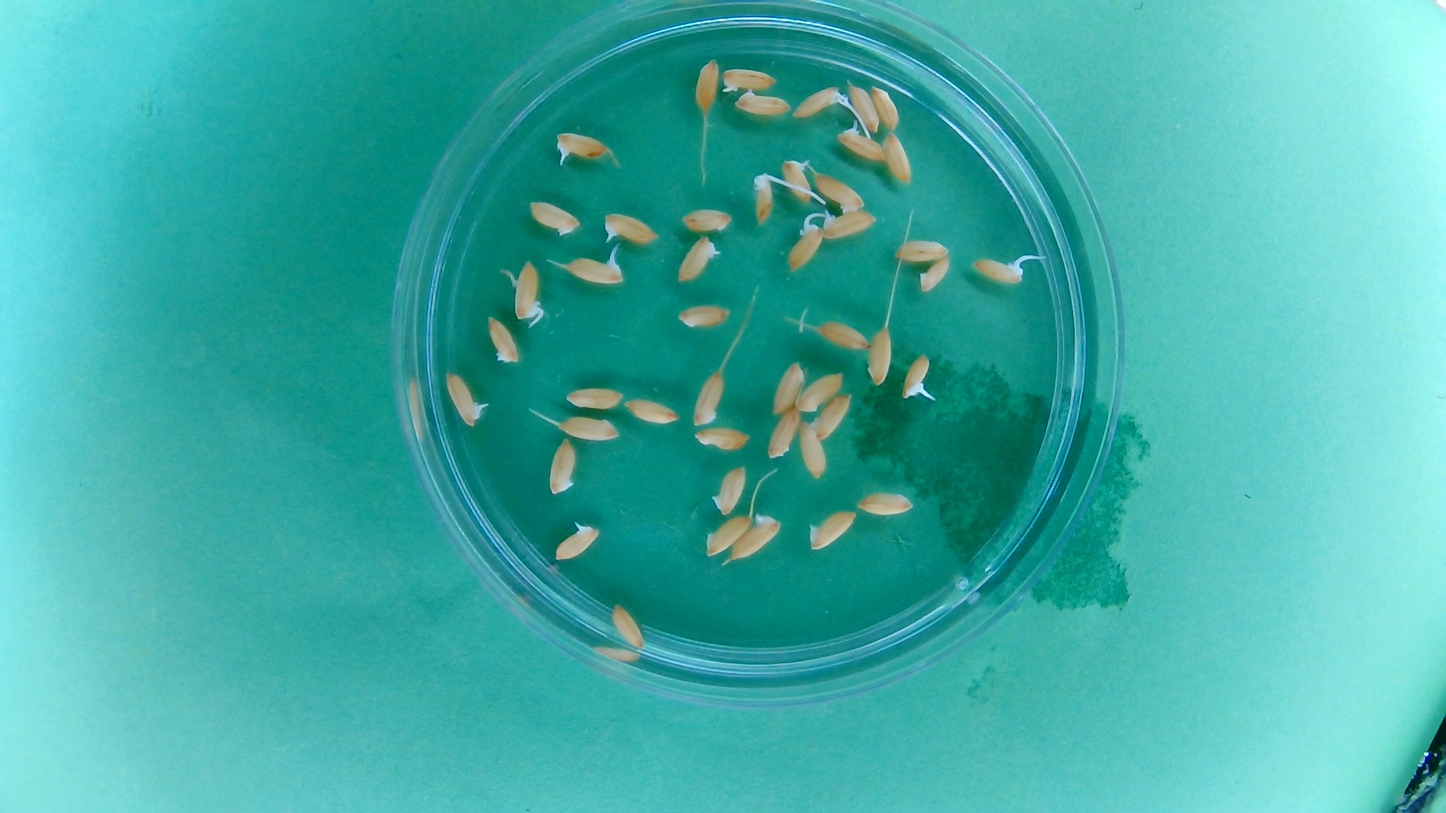no: (728, 510, 784, 564), (811, 168, 868, 215), (526, 197, 583, 239), (807, 508, 859, 553), (809, 392, 854, 443), (701, 513, 751, 558), (709, 462, 749, 517), (690, 367, 726, 428), (795, 370, 846, 413), (769, 358, 806, 416), (763, 405, 801, 460), (545, 434, 578, 496), (484, 313, 521, 367), (814, 317, 869, 352), (719, 63, 779, 95), (555, 414, 621, 443), (882, 130, 916, 186), (846, 80, 881, 134), (610, 600, 648, 649), (798, 420, 829, 480), (865, 324, 894, 387), (563, 383, 627, 411), (732, 88, 793, 117), (622, 396, 680, 426), (868, 81, 902, 132), (692, 56, 721, 113), (678, 204, 735, 233), (892, 235, 951, 263), (673, 302, 732, 330), (691, 425, 752, 452), (856, 489, 915, 516), (917, 256, 953, 294)
yes: (443, 369, 489, 428), (508, 257, 544, 324), (675, 233, 722, 284), (563, 250, 627, 287), (551, 519, 603, 563), (784, 218, 825, 273), (602, 209, 661, 247), (554, 128, 614, 165), (835, 123, 887, 163), (969, 252, 1027, 286), (791, 83, 844, 118), (779, 154, 813, 204), (900, 352, 934, 401), (751, 169, 778, 226)
